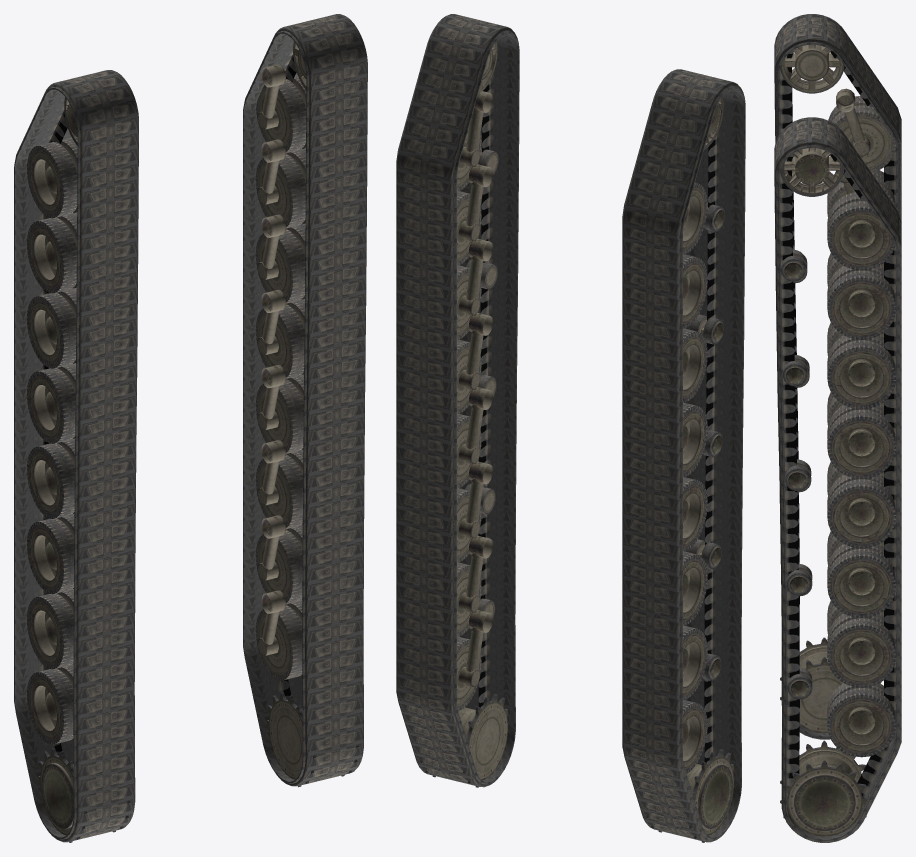
The model's file is Chassis.glb.
3 renders of one model, left to right at view 1: azimuth 30°, elevation 25°; view 2: azimuth 150°, elevation 25°; view 3: azimuth 270°, elevation 25°, orthographic. The views are drawn at different scales.
Parts seen in each view (by area): view 1: set_0_group_0, set_1_group_0, set_3_group_0, set_2_group_0; view 2: set_0_group_0, set_1_group_0, set_3_group_0, set_2_group_0; view 3: set_3_group_0, set_1_group_0, set_2_group_0, set_0_group_0.
Part boxes in pixels (box(x1,y1,x2,y2)): set_0_group_0: box(14, 70, 138, 842); set_1_group_0: box(243, 14, 367, 786); set_3_group_0: box(255, 41, 359, 787); set_2_group_0: box(27, 97, 130, 842); set_0_group_0: box(622, 69, 745, 842); set_1_group_0: box(396, 14, 519, 787); set_3_group_0: box(420, 41, 507, 787); set_2_group_0: box(646, 96, 734, 842); set_3_group_0: box(780, 148, 895, 836); set_1_group_0: box(774, 117, 901, 842); set_2_group_0: box(780, 44, 895, 732); set_0_group_0: box(774, 14, 901, 739).
Size of the model in its own units: 3.38 by 8.39 by 1.38.
Materials: 4 (4 with a texture image).
